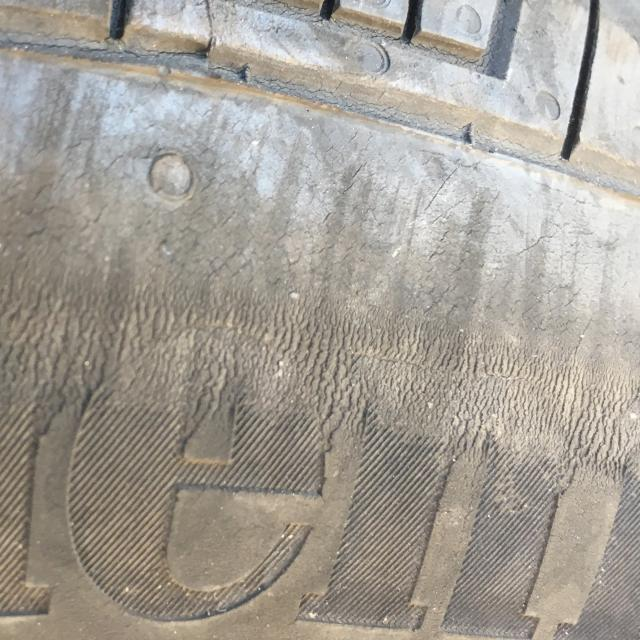Cracks: (0, 147, 640, 493), (0, 0, 526, 148)
